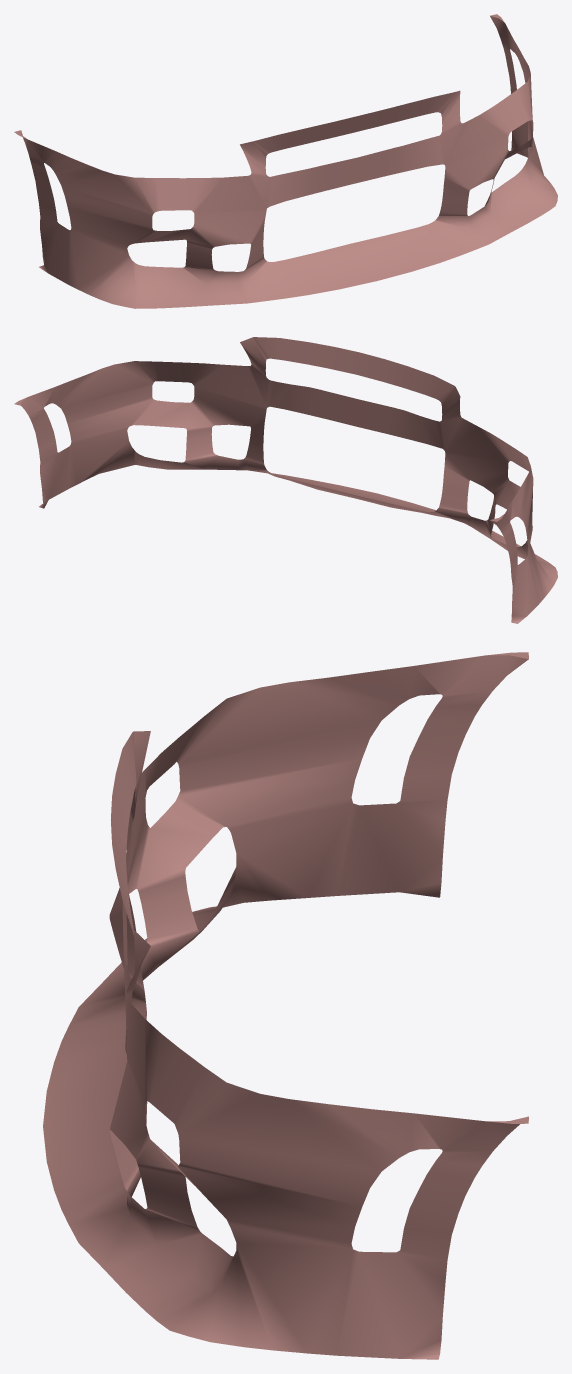
File: R34_FB02_Trim.fbx
3 views of the same model, one above another, from view 1: azimuth 30°, elevation 25°; view 2: azimuth 150°, elevation 25°; view 3: azimuth 270°, elevation 25° (orthographic). The views are drawn at different scales.
Visible parts, largest first — view 1: R34_FB02_Trim; view 2: R34_FB02_Trim; view 3: R34_FB02_Trim.
Part boxes in pixels (x1,y1,x2,y2): R34_FB02_Trim: [14, 14, 557, 308]; R34_FB02_Trim: [14, 337, 557, 623]; R34_FB02_Trim: [43, 652, 528, 1359].
Bounding box in the file's own units: 176 × 53.29 × 76.55.
